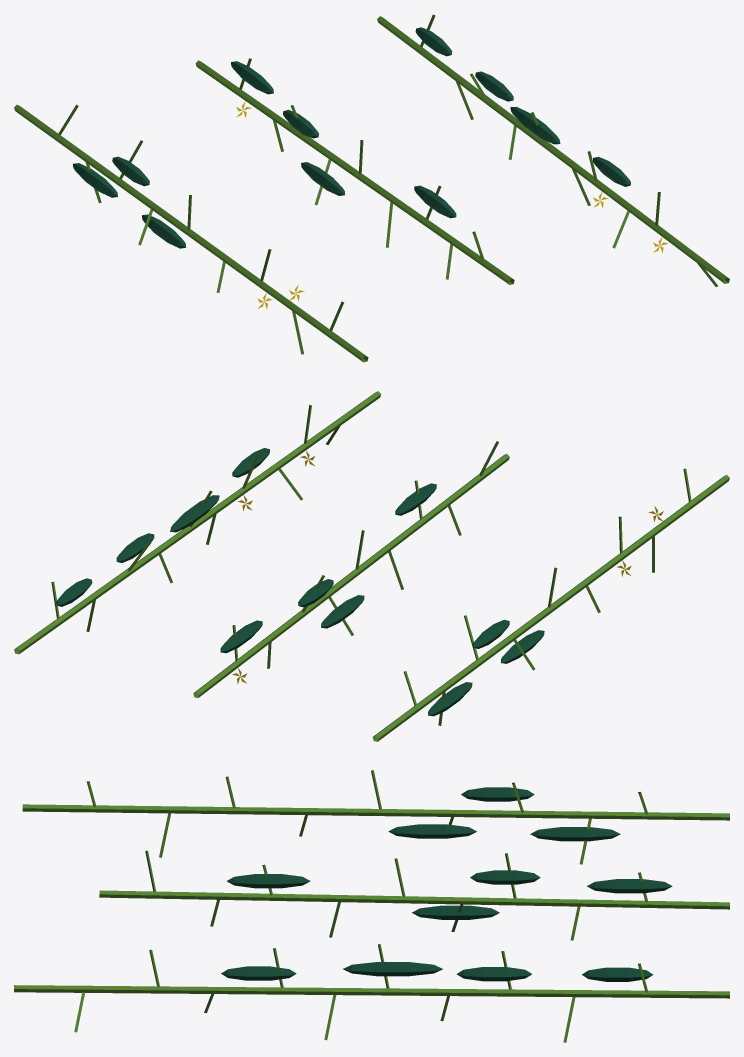
File: r25c3_stems.obj
The picture shows the model from 3 angles, top to bottom: view 1: azimuth 30°, elevation 25°; view 2: azimuth 150°, elevation 25°; view 3: azimuth 270°, elevation 25°; orthographic projection.
Parts seen in each view (by area): view 1: r25c3_stems; view 2: r25c3_stems; view 3: r25c3_stems.
Part boxes in pixels (x1,y1,x2,y2): r25c3_stems: (14,14,729,362); r25c3_stems: (14,391,729,741); r25c3_stems: (14,770,729,1042).
Bounding box in the file's own units: 1.33 × 0.2933 × 2.08.
